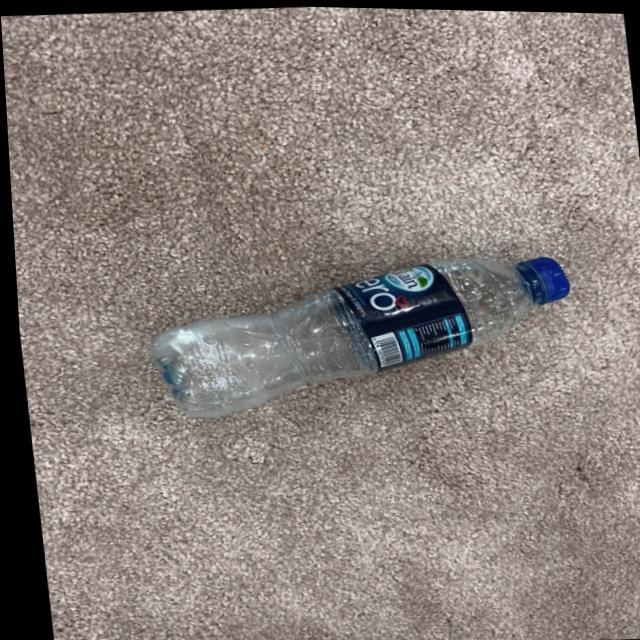anorganik: (103, 235, 602, 415)
